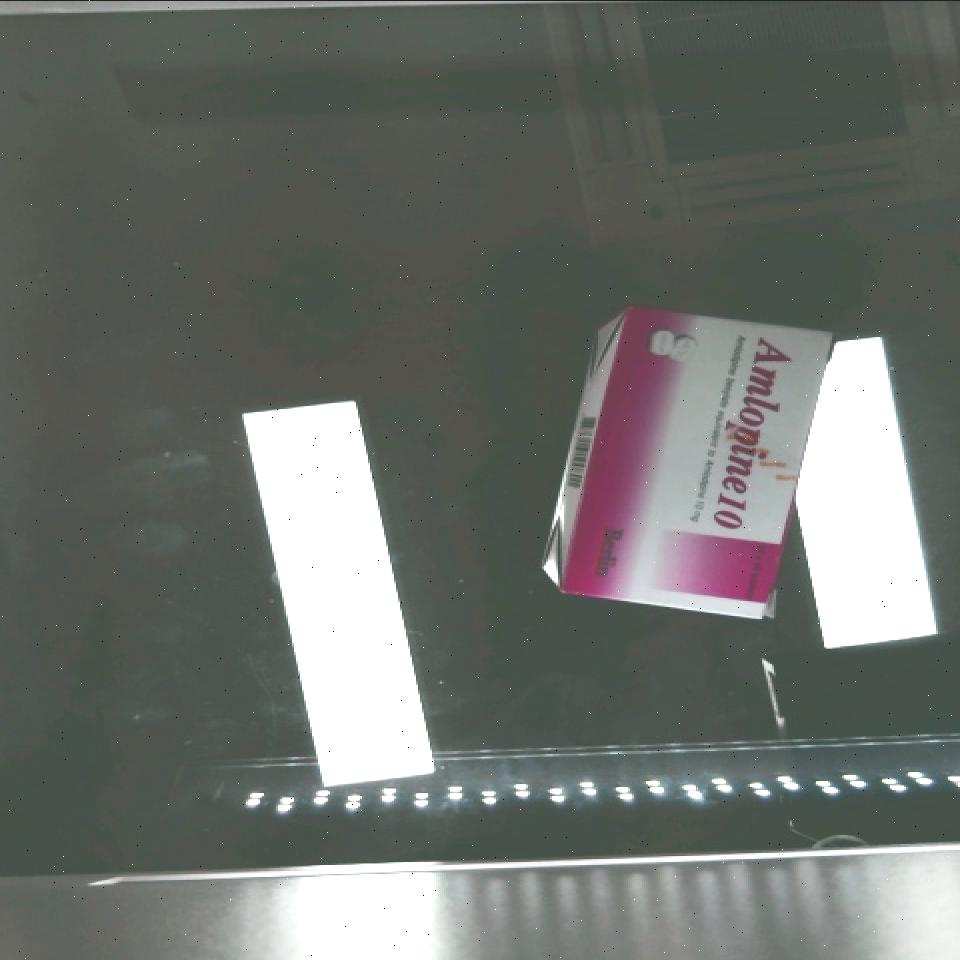medicine_box: (565, 285, 836, 637)
medicine_label_obb: (690, 313, 812, 548)
